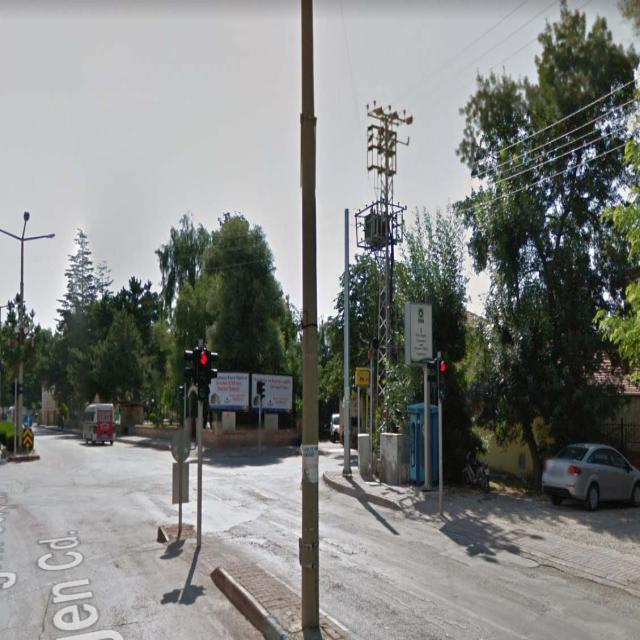ilerisol: (22, 412, 34, 430)
kirmizi: (200, 351, 208, 396), (438, 360, 446, 400)
